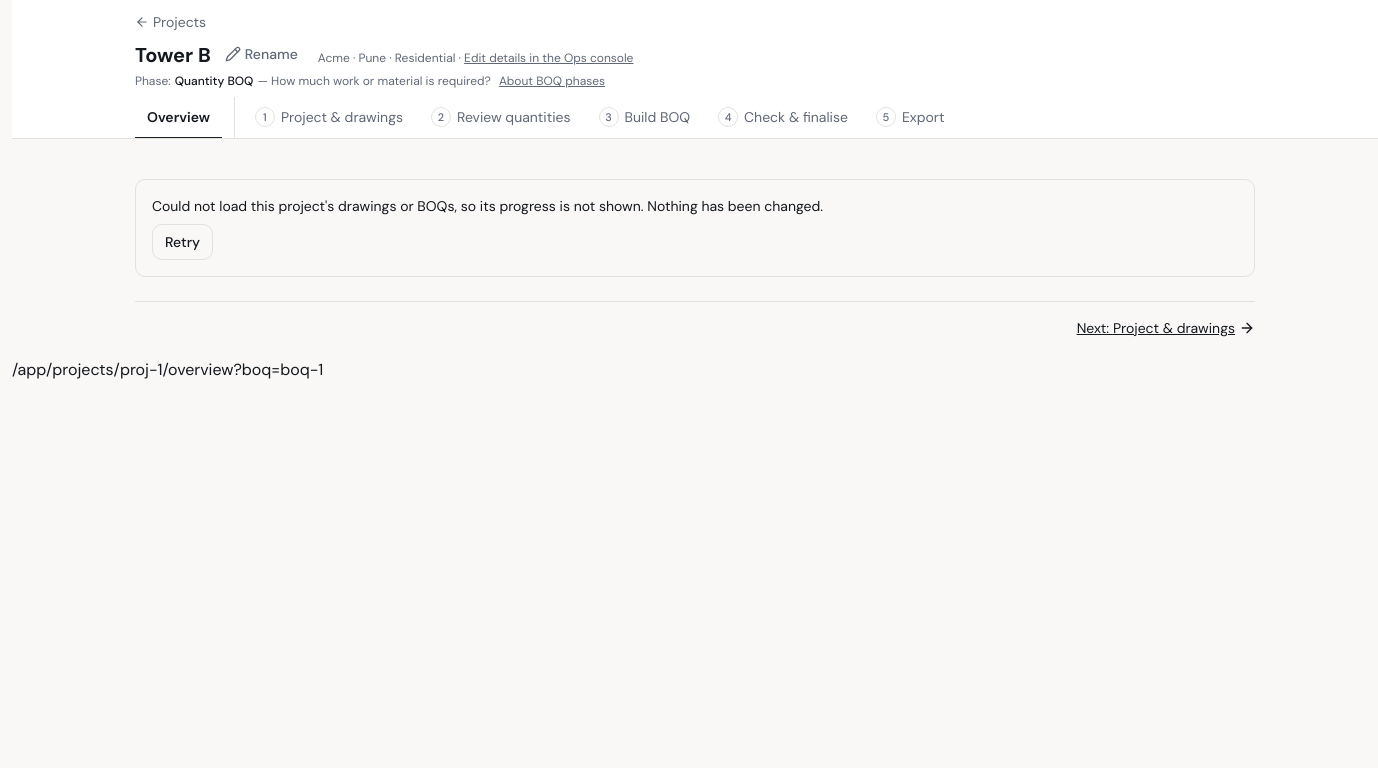
Scenario: Journey — a failed read is an error with a way to recover, never a blank or a success › Overview: drawings read fails → error with Retry, no progress shown
The width and height of the screenshot is (1378, 768).
Expected: the message shows "Could not load this project's drawings or BOQs, so its progress is not shown.", [152, 197, 823, 215]
Click the button "Retry". click: (182, 242)
box: [152, 224, 213, 260]
(page scrolled)
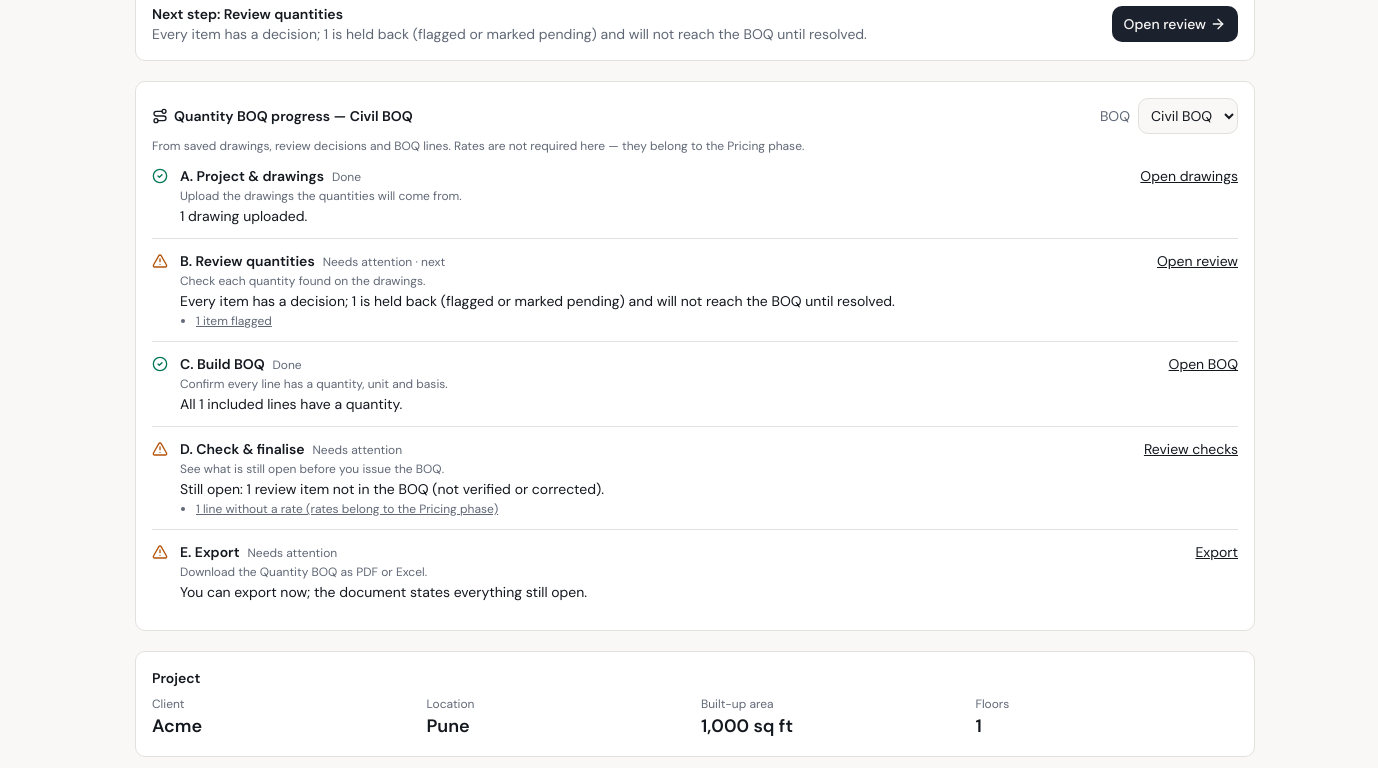
Expected: the list named "Quantity BOQ stages" is shown, [152, 154, 1238, 614]
